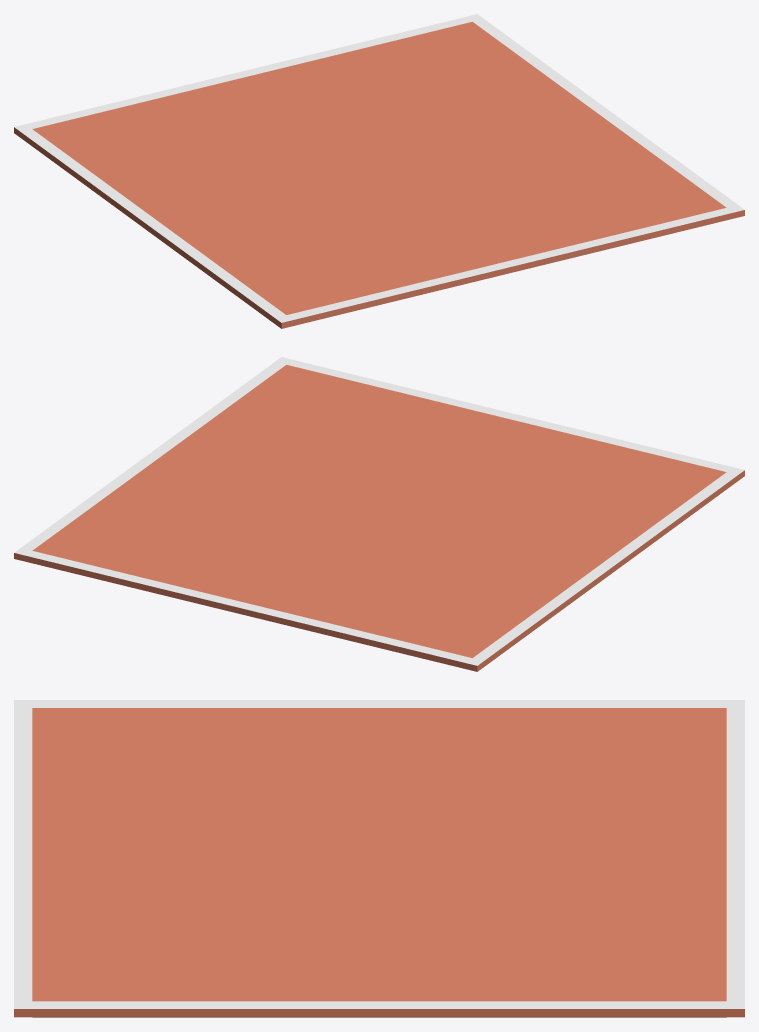
3 views of the same model, one above another, from view 1: azimuth 30°, elevation 25°; view 2: azimuth 150°, elevation 25°; view 3: azimuth 270°, elevation 25° (orthographic). The views are drawn at different scales.
Visible parts, largest first — view 1: mergedBlocks(Clone); view 2: mergedBlocks(Clone); view 3: mergedBlocks(Clone).
Boxes of the visible parts, x1,y1,x2,y2 form: mergedBlocks(Clone): (14,14,744,328); mergedBlocks(Clone): (14,357,744,671); mergedBlocks(Clone): (14,700,744,1017).
Size of the model in its own units: 4 by 0.1 by 4.
